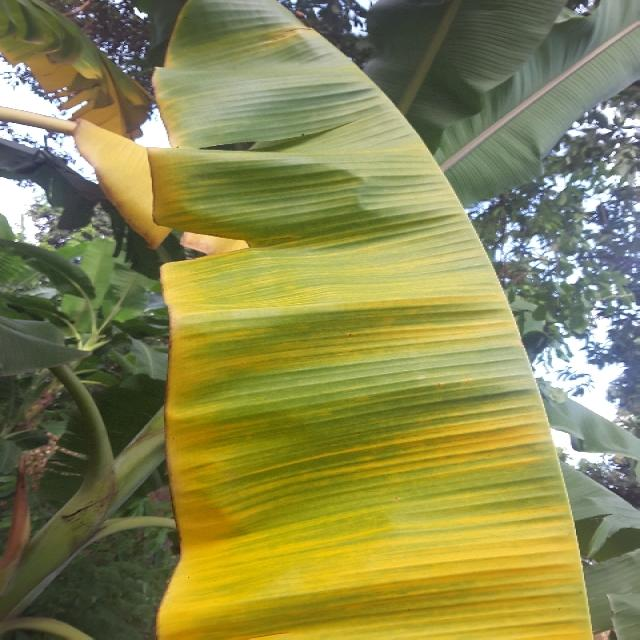Cordana: (137, 0, 578, 640), (0, 96, 188, 267), (0, 0, 165, 148)
